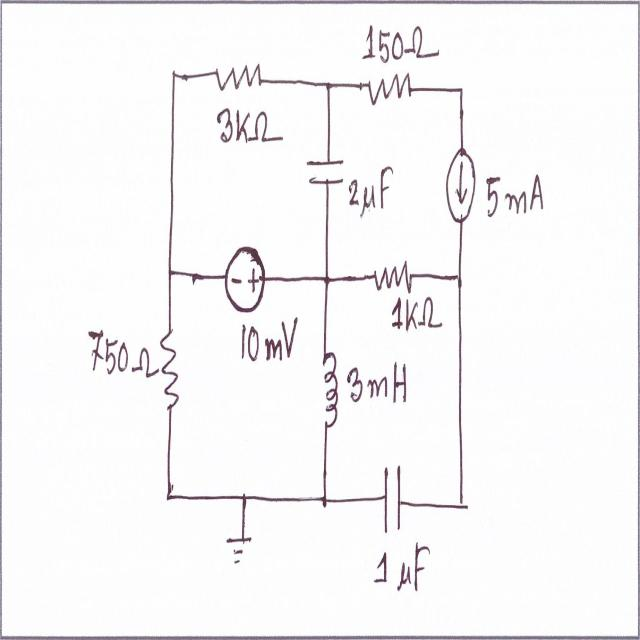capacitor: (380, 444, 406, 540), (306, 154, 344, 195)
current_source: (444, 136, 481, 230)
ground: (223, 530, 258, 568)
inductor: (319, 346, 341, 442)
resistor: (154, 316, 184, 418), (214, 58, 267, 99), (369, 262, 419, 304), (361, 71, 416, 109)
voltage_source: (220, 244, 270, 318)
